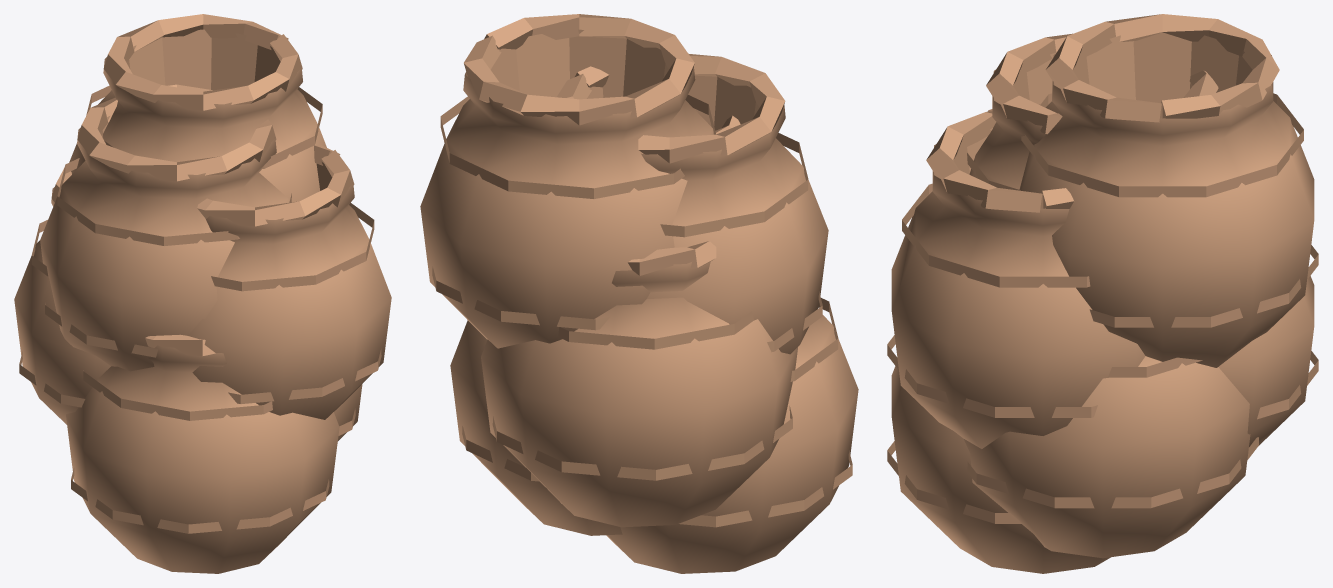
File: item_024_stew_l.glb
The picture shows the model from 3 angles, left to right: view 1: azimuth 30°, elevation 25°; view 2: azimuth 150°, elevation 25°; view 3: azimuth 270°, elevation 25°; orthographic projection. The views are drawn at different scales.
Visible parts, largest first — view 1: item_024_stew_l; view 2: item_024_stew_l; view 3: item_024_stew_l.
Boxes of the visible parts, x1,y1,x2,y2 form: item_024_stew_l: (14,14,391,573); item_024_stew_l: (420,14,858,573); item_024_stew_l: (887,14,1318,573).
Bounding box in the file's own units: 0.39 × 0.5636 × 0.4333.
